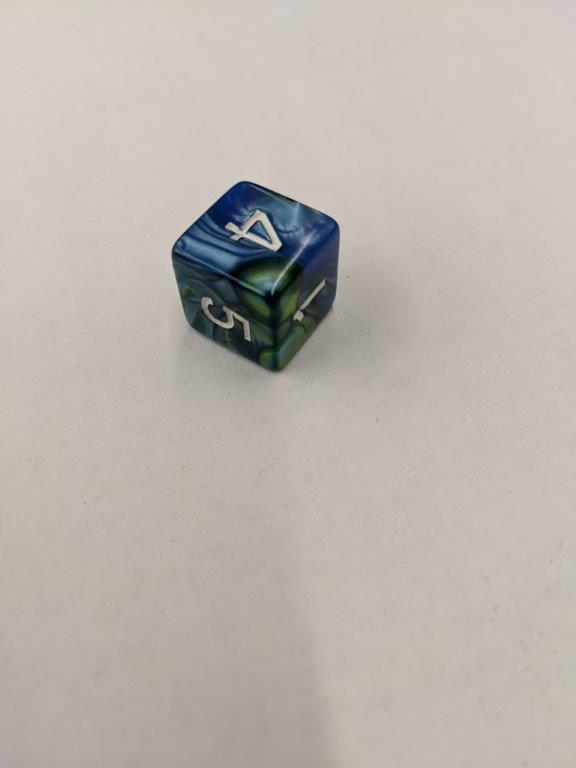d6-4: (168, 176, 341, 376)
